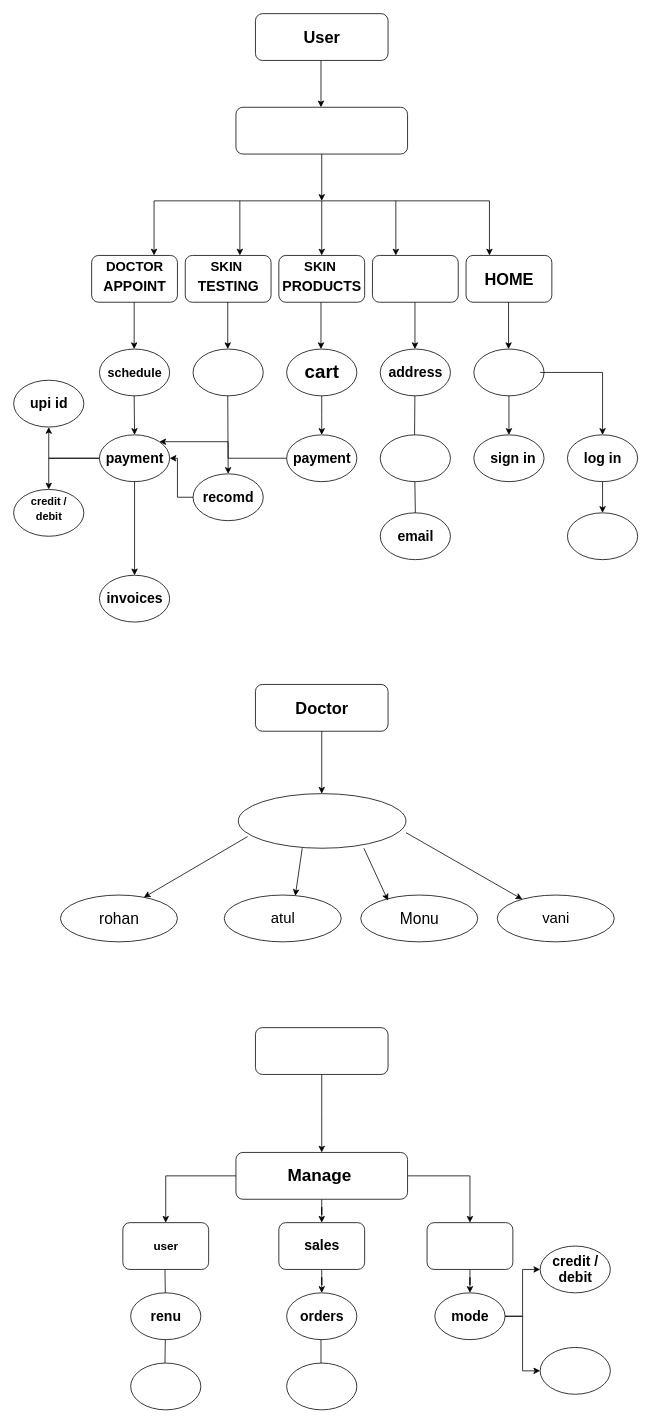
The diagram is 651 pixels wide and 1424 high, and some of its shapes have lost their labels. Here are the shapes that lost their labels. From the top down, the centre of each, then its label:
the point at 321,130: Navigation system
the point at 415,278: HELP
the point at 227,372: face reco
the point at 508,372: profile
the point at 414,458: contact
the point at 602,536: log out
the point at 322,820: Appointment
the point at 321,1050: Admin
the point at 469,1245: transaction
the point at 165,1386: akash
the point at 321,1386: stock
the point at 574,1370: upi
